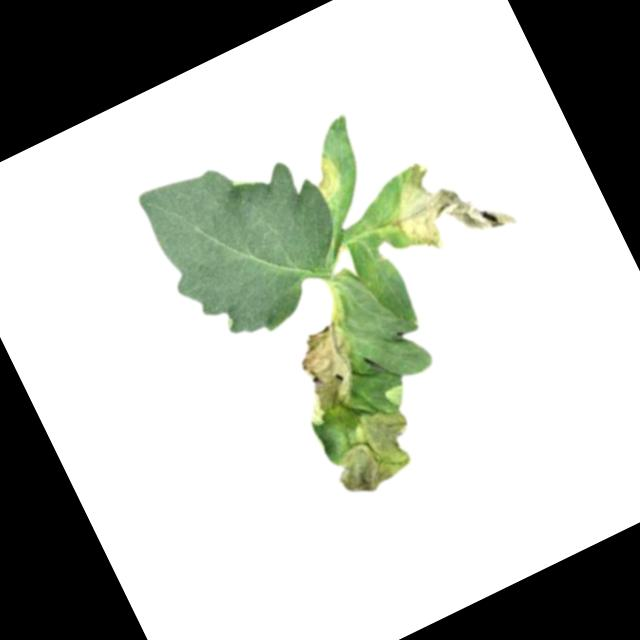Late_blight: (369, 132, 521, 277), (312, 384, 439, 504), (272, 317, 383, 433), (303, 147, 348, 201)
